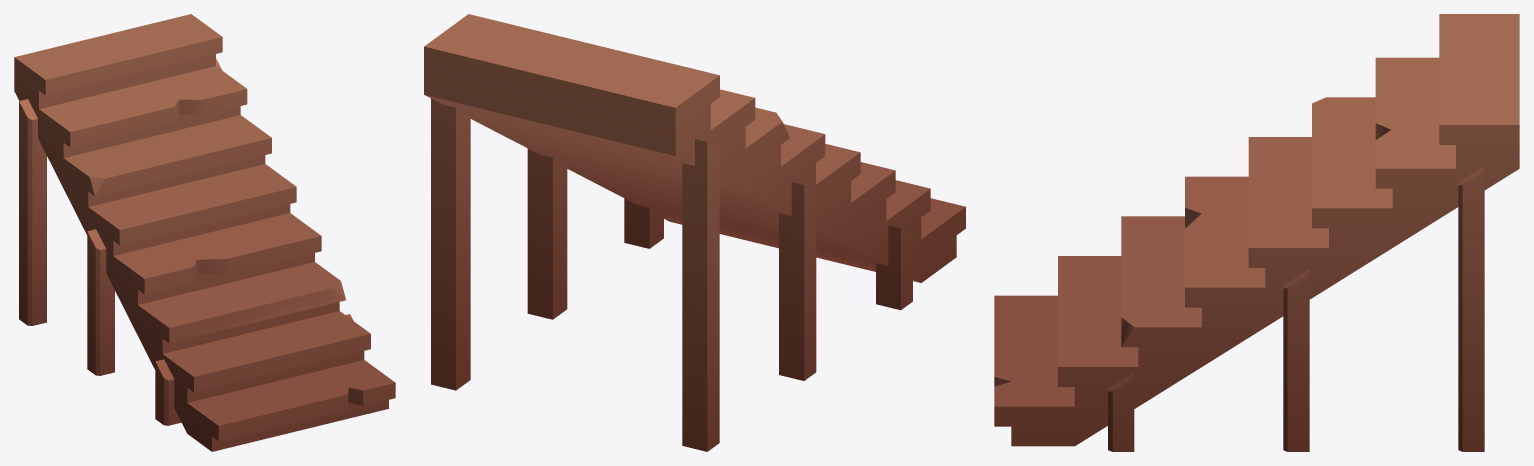
Rendered from dungeon-stairs-wood.glb.
The picture shows the model from 3 angles, left to right: view 1: azimuth 30°, elevation 25°; view 2: azimuth 150°, elevation 25°; view 3: azimuth 270°, elevation 25°; orthographic projection. The views are drawn at different scales.
Visible parts, largest first — view 1: dungeon-stairs-wood; view 2: dungeon-stairs-wood; view 3: dungeon-stairs-wood.
Boxes of the visible parts, x1,y1,x2,y2 form: dungeon-stairs-wood: [14, 14, 395, 451]; dungeon-stairs-wood: [424, 14, 965, 451]; dungeon-stairs-wood: [994, 14, 1519, 451].
Size of the model in its own units: 2.48 by 3.04 by 4.5.
1 material, 1 textured.
